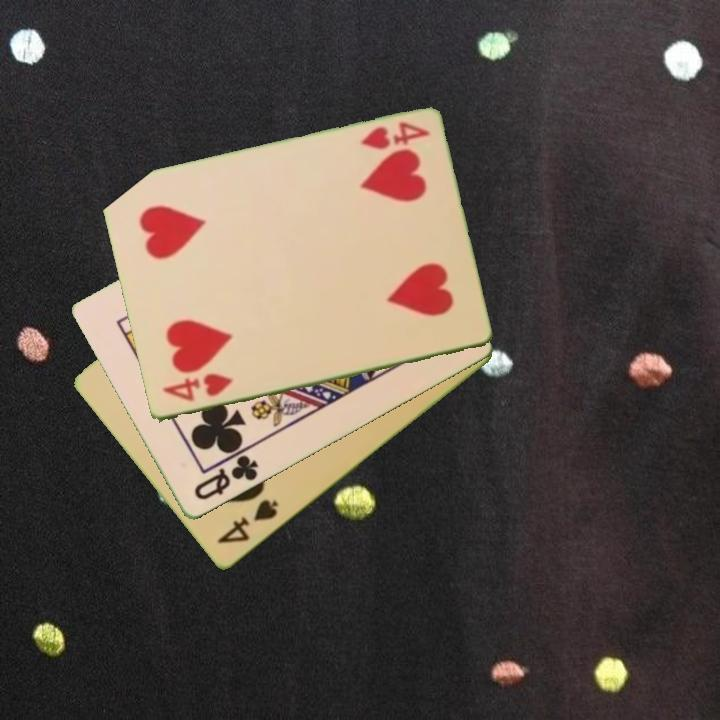4h: (158, 370, 235, 405), (356, 118, 433, 153)
4s: (213, 496, 281, 548)
Qc: (190, 452, 262, 504)
